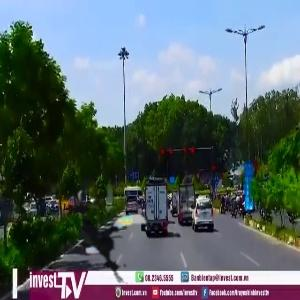drone: (56, 186, 158, 288)
